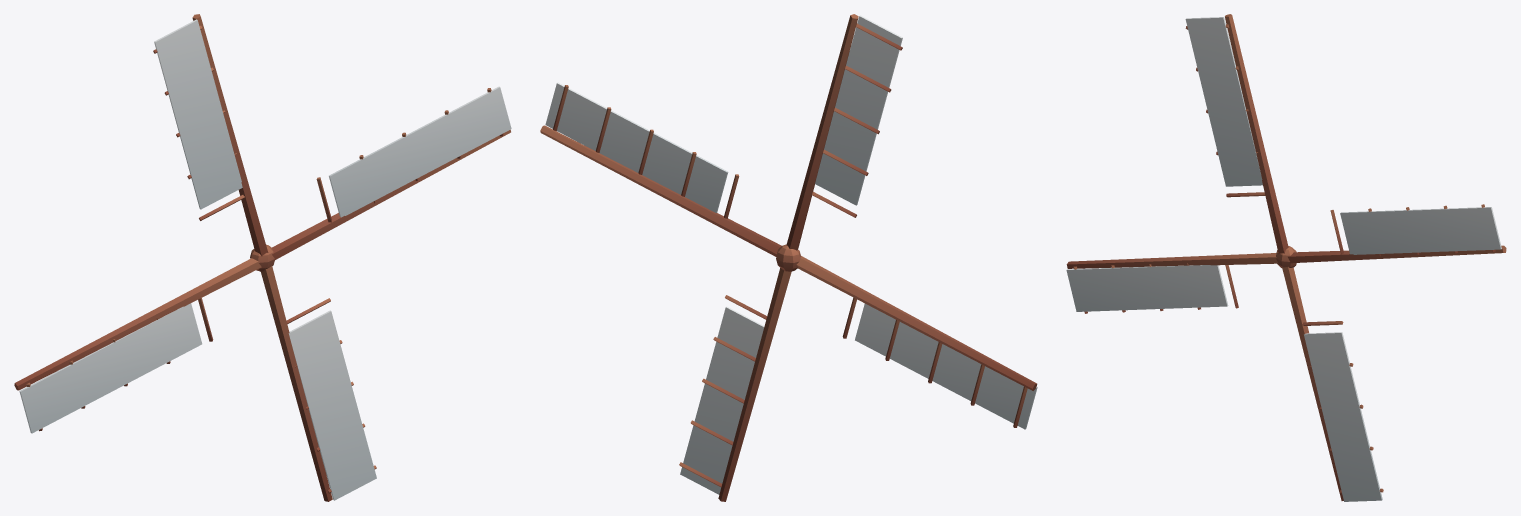
The model's file is windmill_sails.glb.
The picture shows the model from 3 angles, left to right: view 1: azimuth 30°, elevation 25°; view 2: azimuth 150°, elevation 25°; view 3: azimuth 330°, elevation 25°; orthographic projection. The views are drawn at different scales.
Parts seen in each view (by area): view 1: windmill_sails; view 2: windmill_sails; view 3: windmill_sails.
Boxes of the visible parts, left/top/right/bottom form: windmill_sails: left=14, top=14, right=511, bottom=501; windmill_sails: left=540, top=14, right=1037, bottom=501; windmill_sails: left=1066, top=14, right=1506, bottom=501.
Bounding box in the file's own units: 10.08 × 10.09 × 0.4.
1 material, 1 textured.
